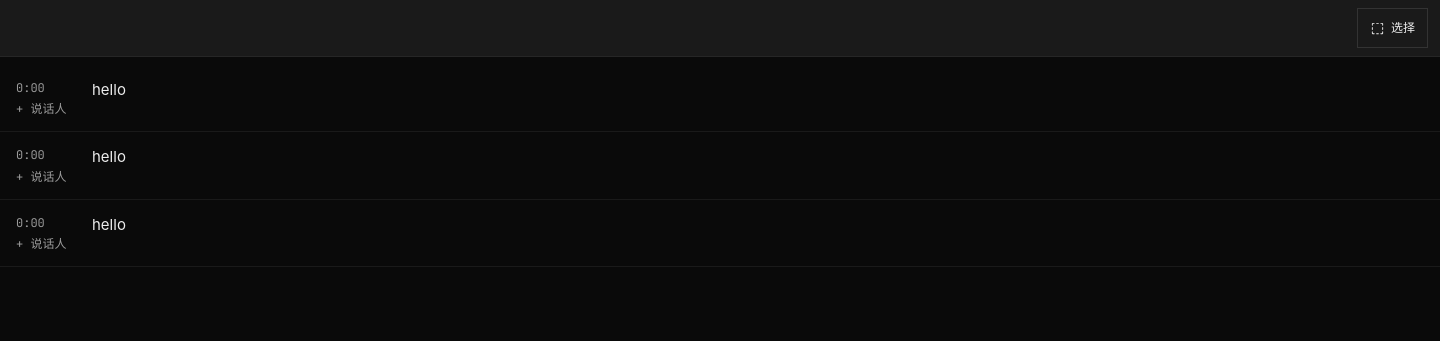
TranscriptPanel — selection mode / bulk assign / live latch / AI 校正 gating › 全选 selects every visible segment; clicking it again (取消全选) clears the selection
Click the button with test id "btn-select-mode": (1392, 28) [1357,8,1428,48]
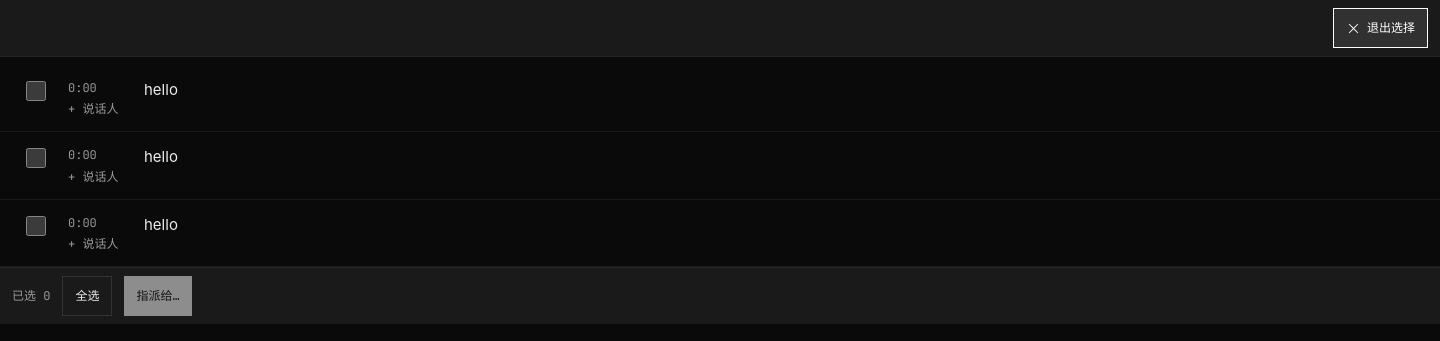
Expected: the button with test id "btn-select-all" reads "全选"
Click the button with test id "btn-select-all": (87, 296) [62,276,112,316]
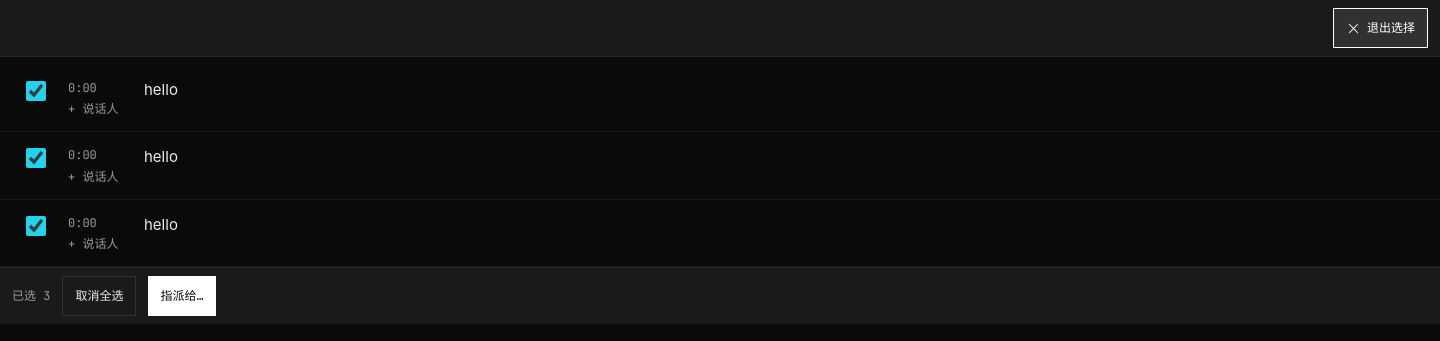
Expected: the checkbox with test id "segment-select-s1" is checked, [26,81,46,101]
Expected: the checkbox with test id "segment-select-s3" is checked, [26,216,46,236]
Expected: the button with test id "btn-select-all" reads "取消全选"
Click the button with test id "btn-select-all": (99, 296) [62,276,136,316]
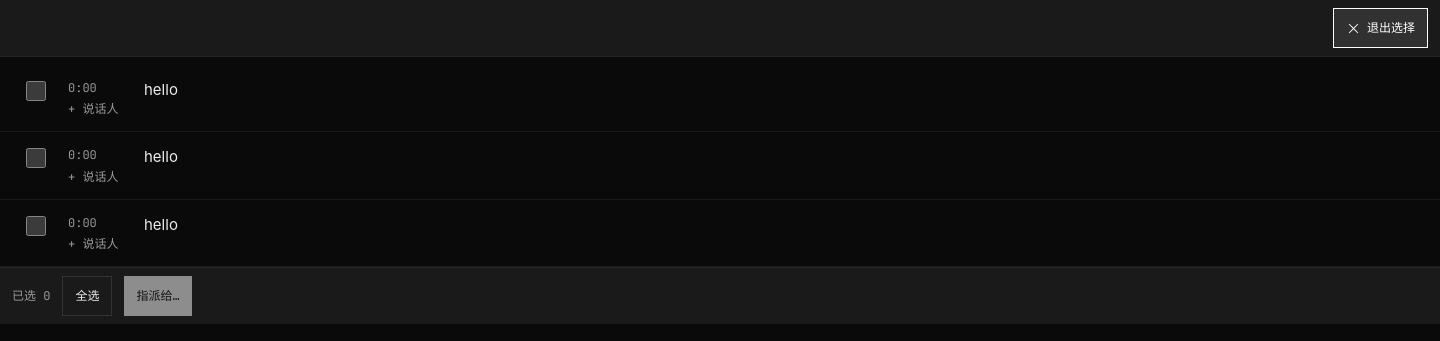
Expected: the checkbox with test id "segment-select-s1" is not checked, [26,81,46,101]
Expected: the checkbox with test id "segment-select-s3" is not checked, [26,216,46,236]
Expected: the button with test id "btn-select-all" reads "全选", [62,276,112,316]
